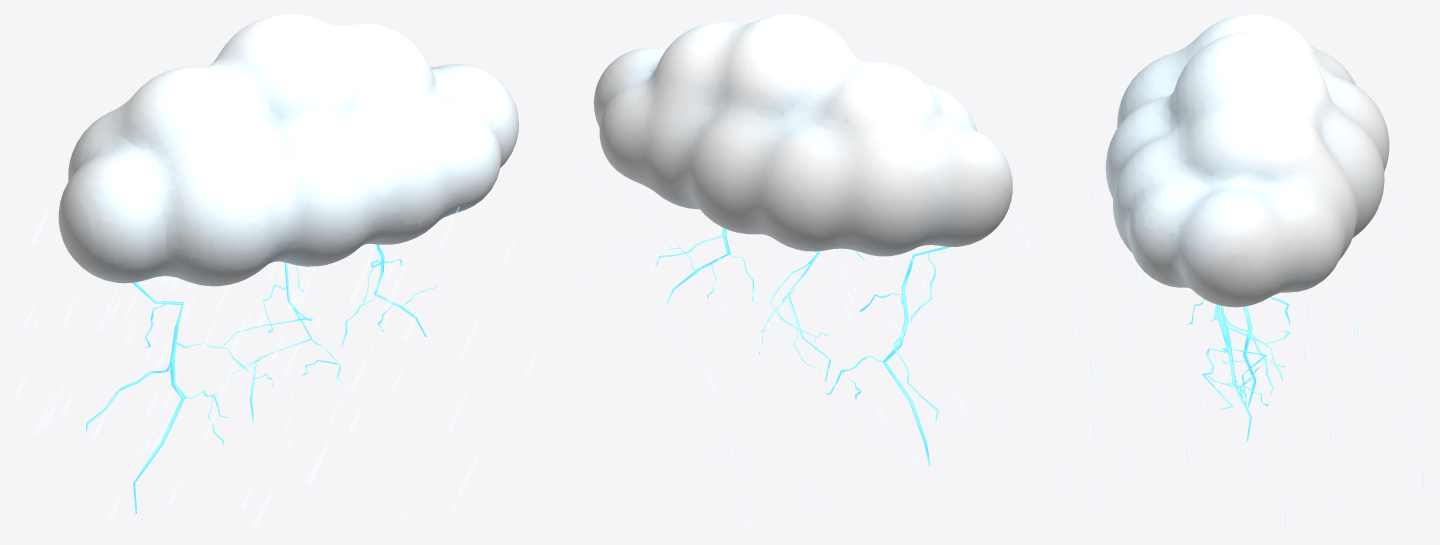
3 views of the same model, side by side, from view 1: azimuth 30°, elevation 25°; view 2: azimuth 150°, elevation 25°; view 3: azimuth 270°, elevation 25° (orthographic). The views are drawn at different scales.
Parts seen in each view (by area): view 1: Mball.034, th bolt.001, th bolt.002, th bolt.000; view 2: Mball.034, th bolt.001, th bolt.002, th bolt.000; view 3: Mball.034, th bolt.002, th bolt.000, th bolt.001.
Part boxes in pixels (<box>): Mball.034: <box>58,14,518,286</box>; th bolt.001: <box>85,282,248,514</box>; th bolt.002: <box>223,262,343,423</box>; th bolt.000: <box>341,244,437,350</box>; Mball.034: <box>593,14,1012,256</box>; th bolt.001: <box>825,246,958,466</box>; th bolt.002: <box>759,250,865,382</box>; th bolt.000: <box>656,227,757,305</box>; Mball.034: <box>1105,14,1389,307</box>; th bolt.002: <box>1202,304,1290,409</box>; th bolt.000: <box>1186,299,1282,441</box>; th bolt.001: <box>1210,296,1290,407</box>.
Bounding box in the file's own units: 11 × 11.35 × 7.92.
3 materials, 3 textured.
